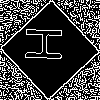H: (25, 25, 72, 63)
